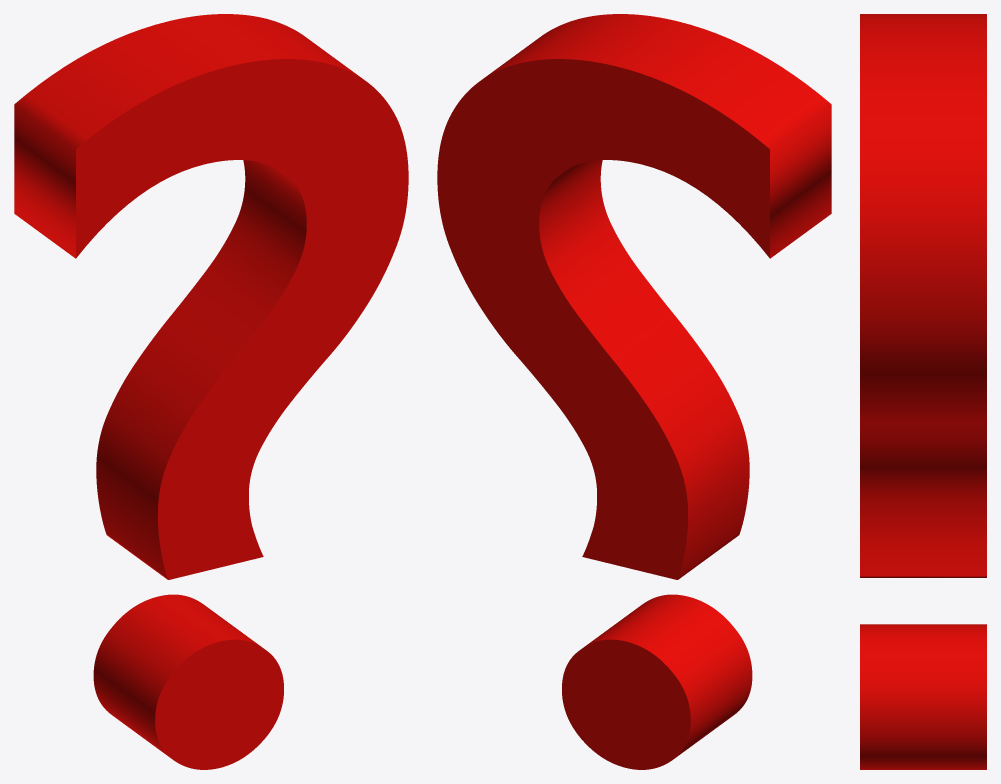
Rendered from QuestionMark.fbx.
The picture shows the model from 3 angles, left to right: view 1: azimuth 30°, elevation 25°; view 2: azimuth 150°, elevation 25°; view 3: azimuth 270°, elevation 25°; orthographic projection. The views are drawn at different scales.
Visible parts, largest first — view 1: Text; view 2: Text; view 3: Text.
Boxes of the visible parts, x1,y1,x2,y2 form: Text: [14, 14, 408, 769]; Text: [437, 14, 831, 769]; Text: [860, 14, 986, 769].
Size of the model in its own units: 62.41 by 125 by 20.
